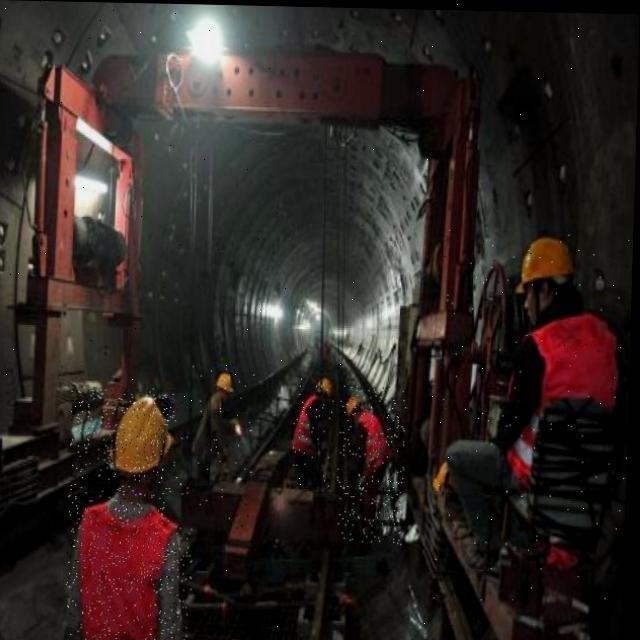Helmet: (114, 394, 174, 474), (520, 233, 576, 285), (347, 386, 369, 412), (217, 370, 236, 392), (319, 375, 337, 395)
No-Glove: (545, 539, 583, 571)
Safety-Boot: (443, 435, 514, 571)
Safety-Vest: (77, 498, 183, 640)
